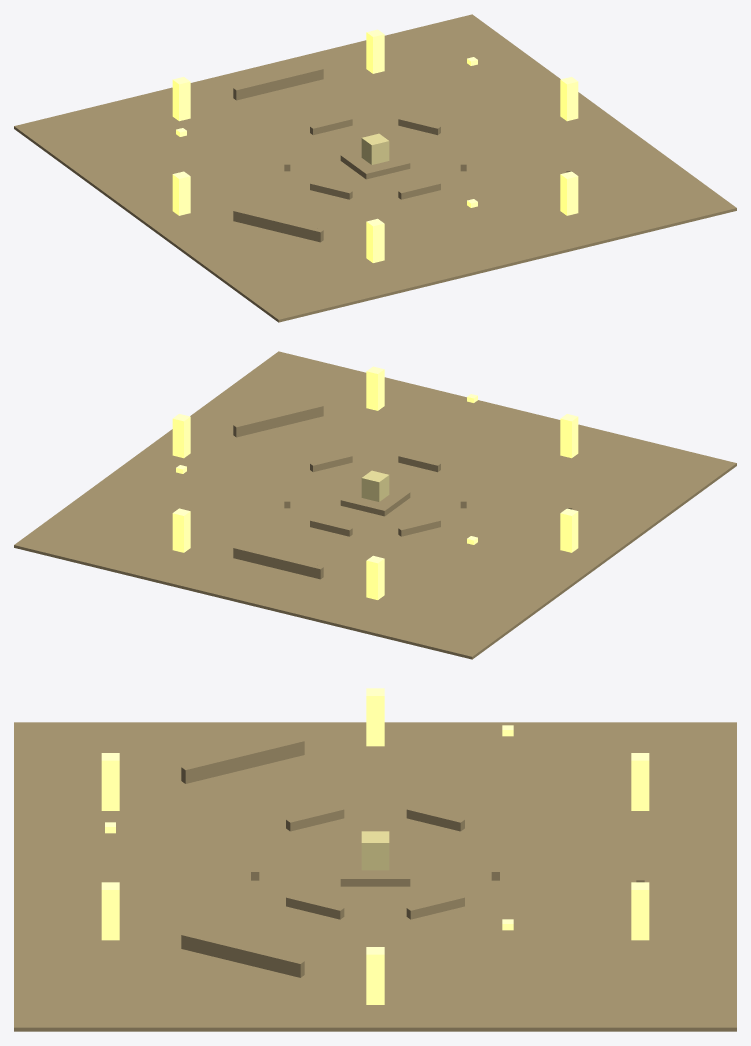
The model's file is Arena_World5_Blockout.fbx.
3 views of the same model, one above another, from view 1: azimuth 30°, elevation 25°; view 2: azimuth 150°, elevation 25°; view 3: azimuth 270°, elevation 25° (orthographic). The views are drawn at different scales.
Visible parts, largest first — view 1: Arena_World5_Blockout; view 2: Arena_World5_Blockout; view 3: Arena_World5_Blockout.
Part boxes in pixels (left/top/right/bottom): Arena_World5_Blockout: left=14, top=14, right=736, bottom=322; Arena_World5_Blockout: left=14, top=351, right=736, bottom=659; Arena_World5_Blockout: left=14, top=688, right=736, bottom=1031.
Size of the model in its own units: 52 by 4.55 by 52.
